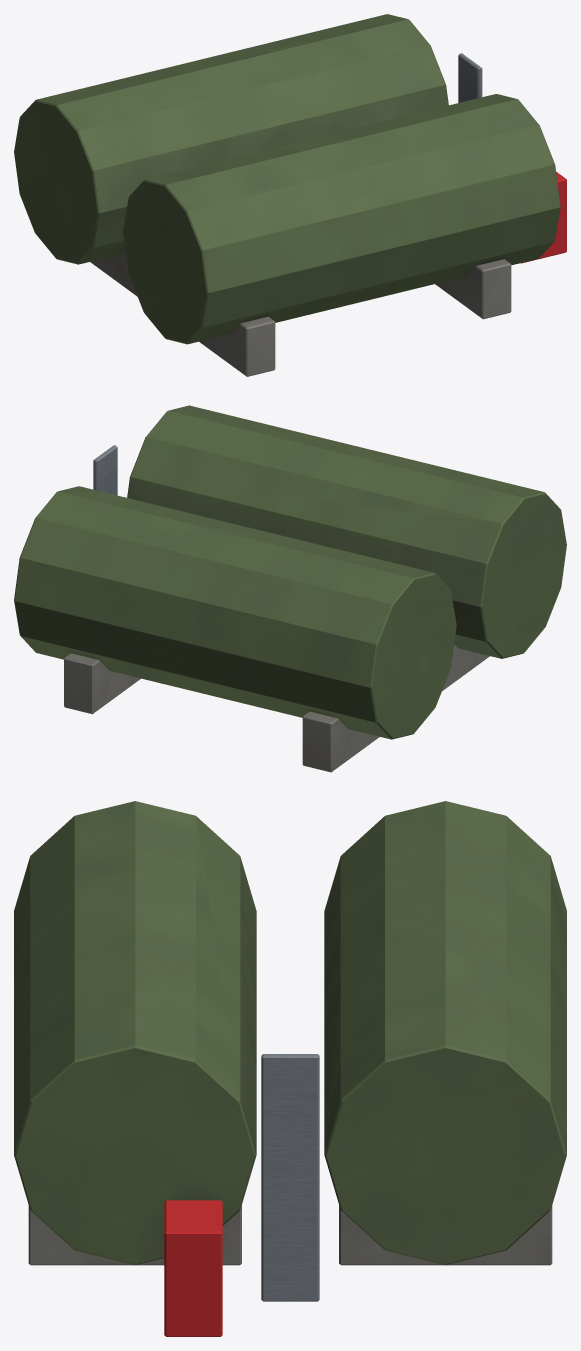
File: drivmedel_tex.glb
3 renders of one model, top to bottom at view 1: azimuth 30°, elevation 25°; view 2: azimuth 150°, elevation 25°; view 3: azimuth 270°, elevation 25°, orthographic. The views are drawn at different scales.
Parts seen in each view (by area): view 1: drivmedel; view 2: drivmedel; view 3: drivmedel.
Boxes of the visible parts, x1,y1,x2,y2 form: drivmedel: (14, 14, 566, 376); drivmedel: (14, 405, 566, 772); drivmedel: (14, 801, 566, 1336).
Bounding box in the file's own units: 7 × 2.85 × 5.7.
Materials: 4 (3 with a texture image).
